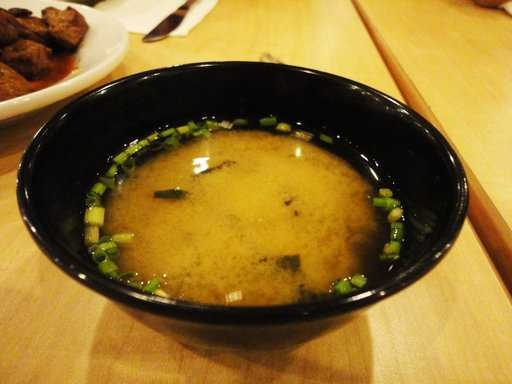soup: (59, 86, 403, 298)
